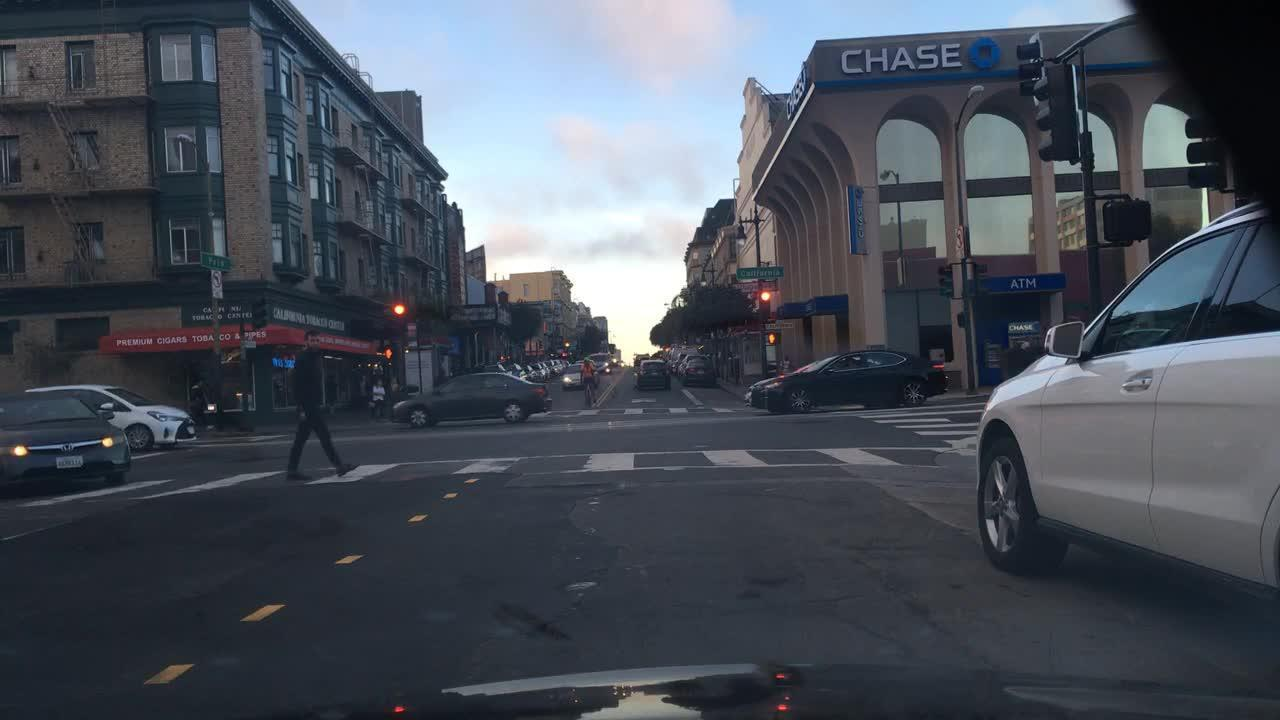Honda: (58, 438, 77, 457)
